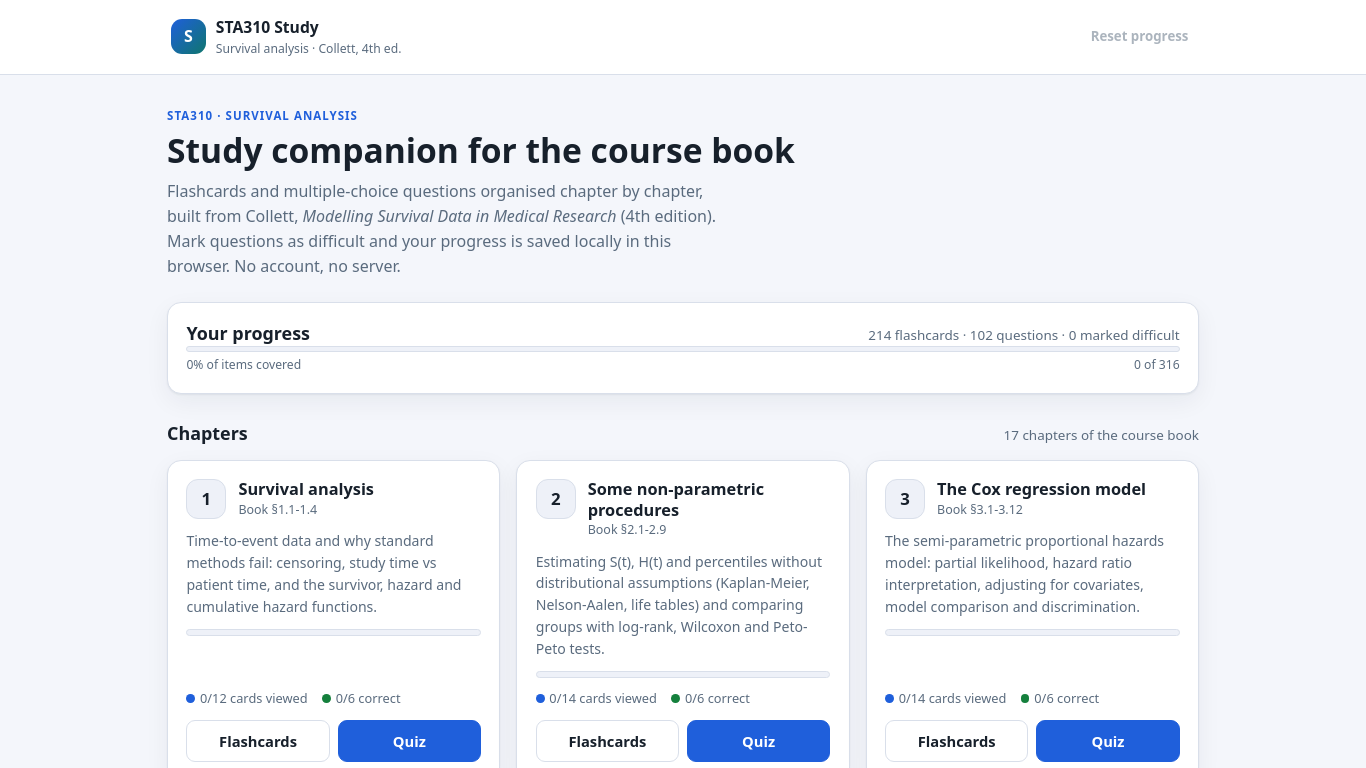
Test: flashcard flow › reveals the answer when asked and counts the view
Click the button "Flashcards" below "§1.1-1.4".
click(258, 741)  # box [186, 720, 330, 762]
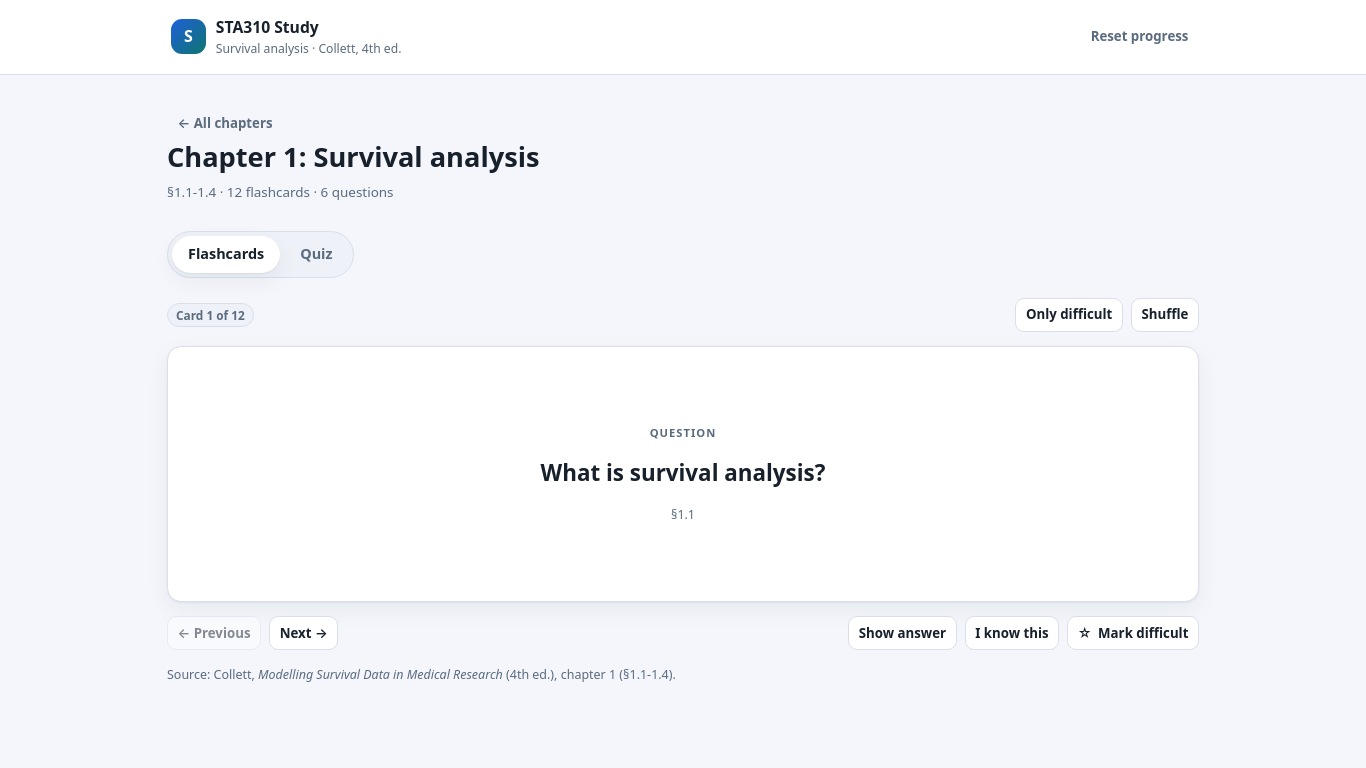
Expected: the text "What is survival analysis?" is shown, [541, 456, 825, 490]
Click the button "Show answer".
click(902, 633)  # box [848, 616, 957, 650]
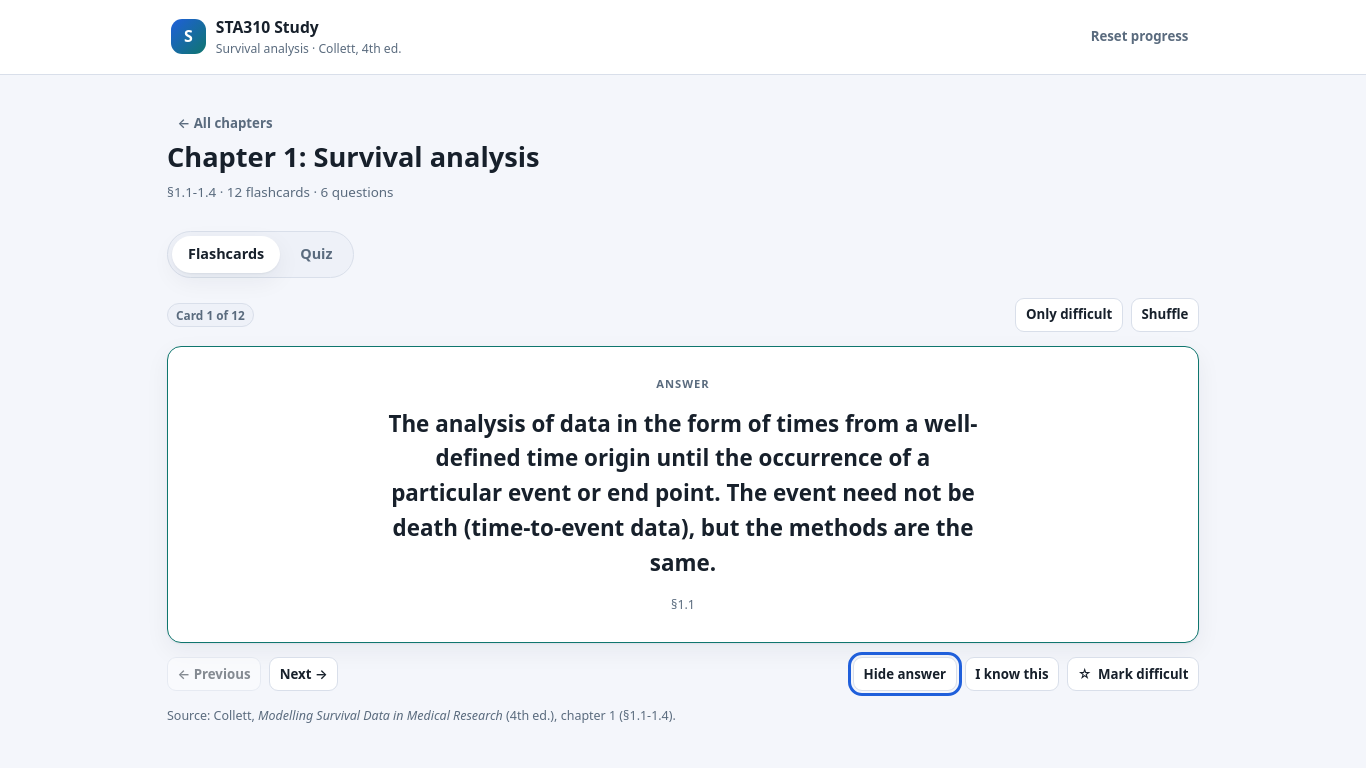
Expected: the text "The analysis of data in the form of times" is shown, [388, 408, 978, 578]
